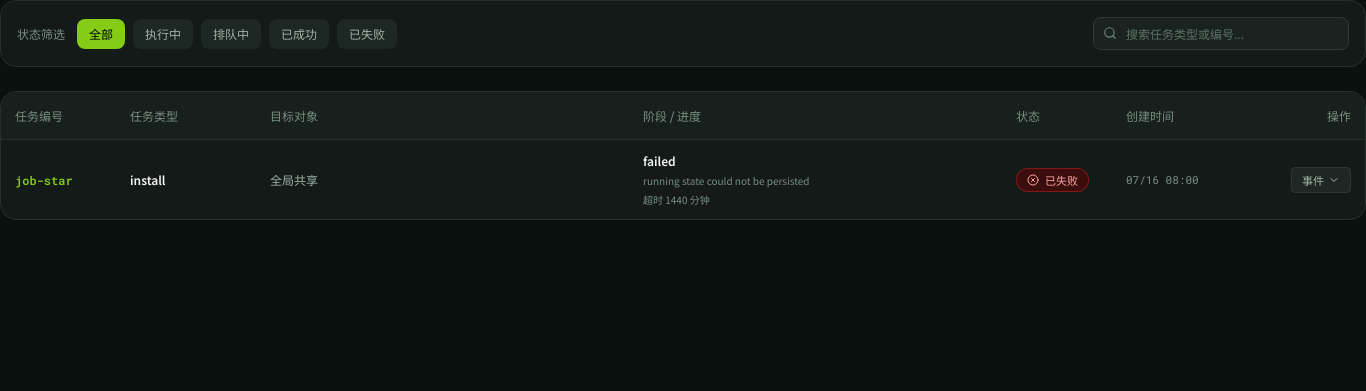
Test: JobsPage › shows a terminal job that never started as not executed
Click the button with aria-label "查看 install 任务日志，任务 ID job-start-failed": (1321, 180) [1291,166,1351,192]
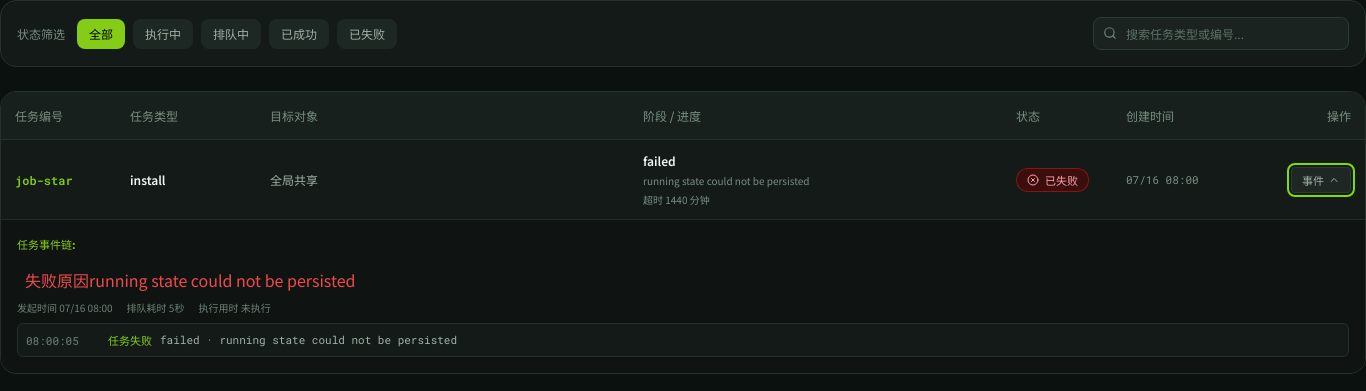
Check: the element named "install 任务日志" shows "排队耗时 5秒", box [1,219,1365,373]
Check: the element named "install 任务日志" shows "执行用时 未执行", box [1,219,1365,373]
